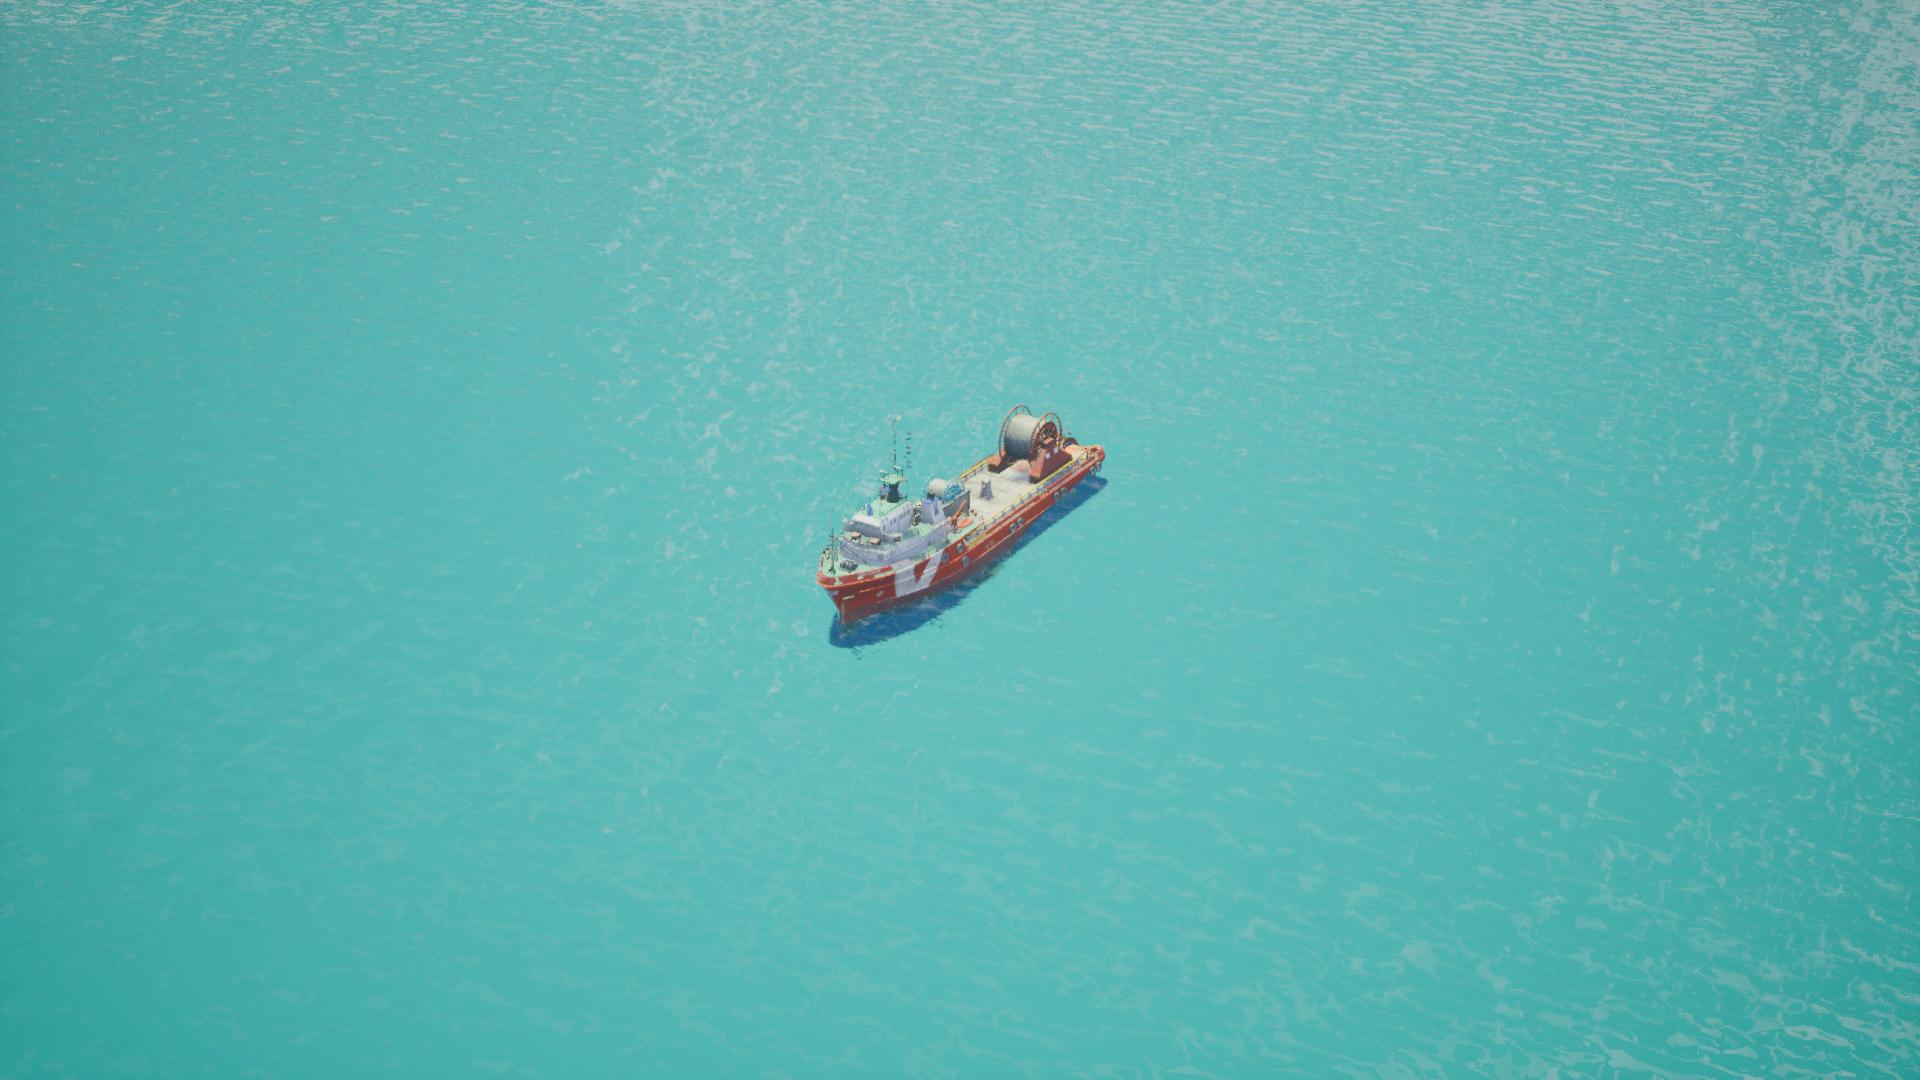Tug Boat: (728, 334, 1179, 669)
